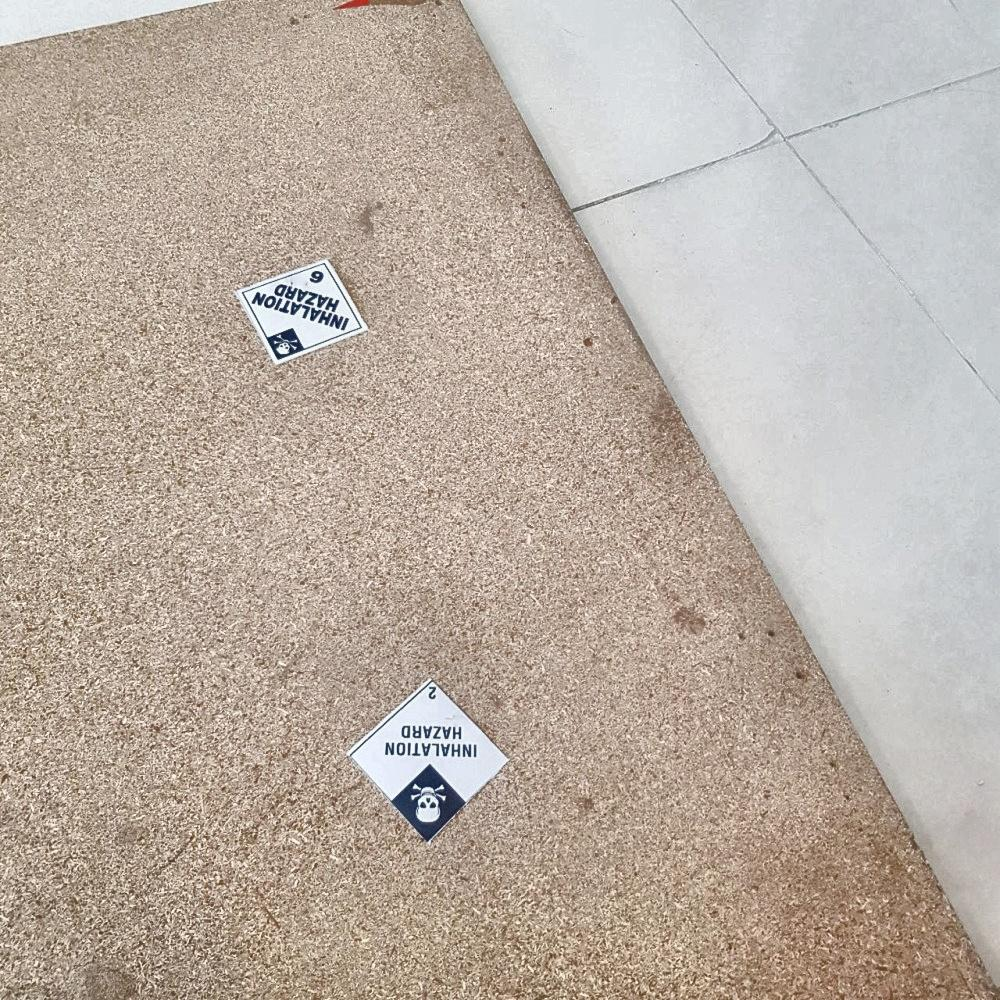poison: (348, 676, 511, 841), (234, 257, 367, 365)
